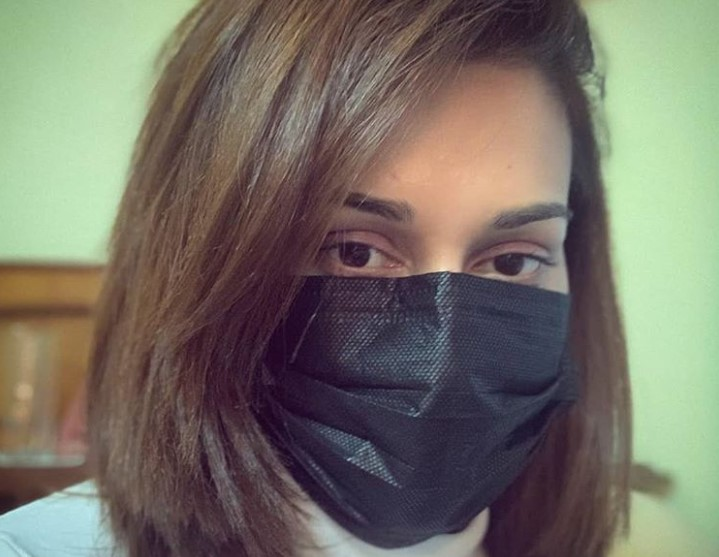face_with_mask: (170, 7, 580, 545)
